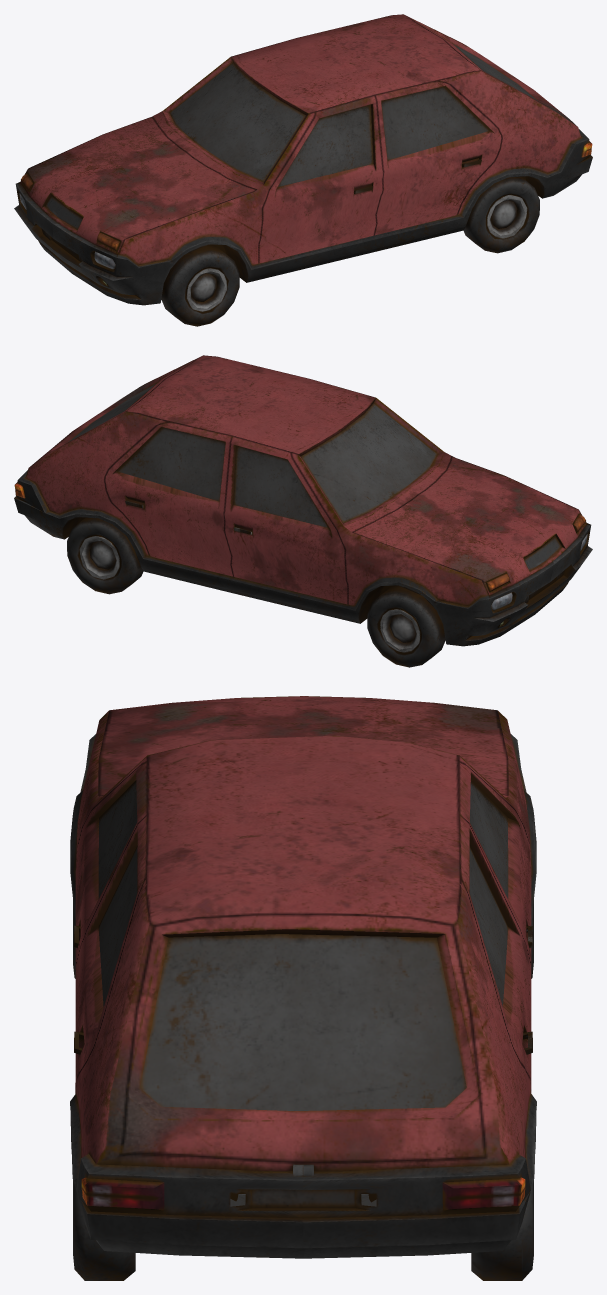
File: car.fbx
3 renders of one model, top to bottom at view 1: azimuth 30°, elevation 25°; view 2: azimuth 150°, elevation 25°; view 3: azimuth 270°, elevation 25°, orthographic. The views are drawn at different scales.
Parts seen in each view (by area): view 1: Cube.001; view 2: Cube.001; view 3: Cube.001.
Boxes of the visible parts, x1,y1,x2,y2 form: Cube.001: [14, 14, 592, 326]; Cube.001: [14, 355, 592, 667]; Cube.001: [70, 696, 536, 1280].
Size of the model in its own units: 7033 by 2431 by 2874.
